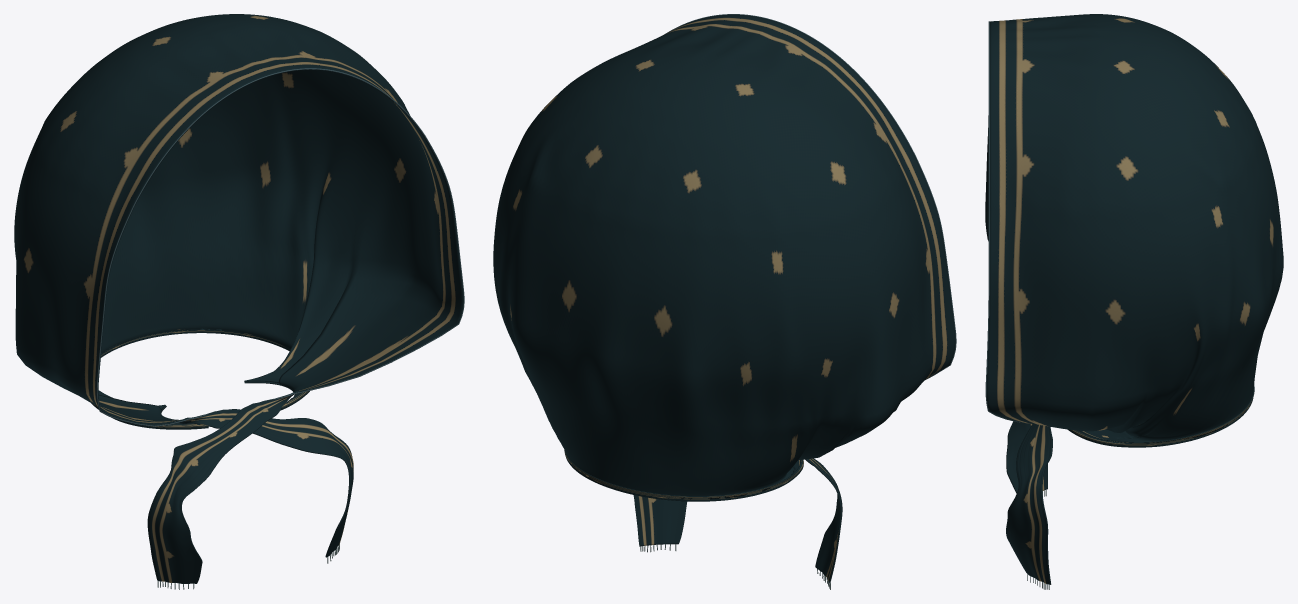
Rendered from Feminine-tank-long-pashmina248-headgear.glb.
The picture shows the model from 3 angles, left to right: view 1: azimuth 30°, elevation 25°; view 2: azimuth 150°, elevation 25°; view 3: azimuth 270°, elevation 25°; orthographic projection. The views are drawn at different scales.
Visible parts, largest first — view 1: 226 headgear / Headwear / continuous woven pashmina239, 226 headgear / Headwear / face edge239; view 2: 226 headgear / Headwear / continuous woven pashmina239, 226 headgear / Headwear / face edge239; view 3: 226 headgear / Headwear / continuous woven pashmina239, 226 headgear / Headwear / face edge239.
Boxes of the visible parts, x1,y1,x2,y2 form: 226 headgear / Headwear / continuous woven pashmina239: [14, 14, 463, 583]; 226 headgear / Headwear / face edge239: [96, 68, 464, 426]; 226 headgear / Headwear / continuous woven pashmina239: [493, 14, 955, 583]; 226 headgear / Headwear / face edge239: [664, 14, 956, 379]; 226 headgear / Headwear / continuous woven pashmina239: [985, 14, 1283, 584]; 226 headgear / Headwear / face edge239: [985, 21, 1028, 423].
Bounding box in the file's own units: 1.02 × 1.35 × 0.7112.
Materials: 3 (1 with a texture image).
